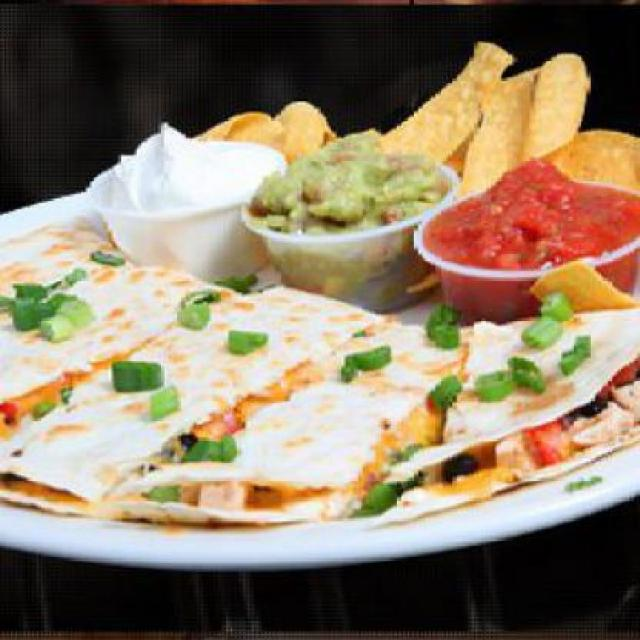guacamole: (267, 137, 435, 306)
nachos: (183, 25, 639, 207), (524, 256, 638, 322)
